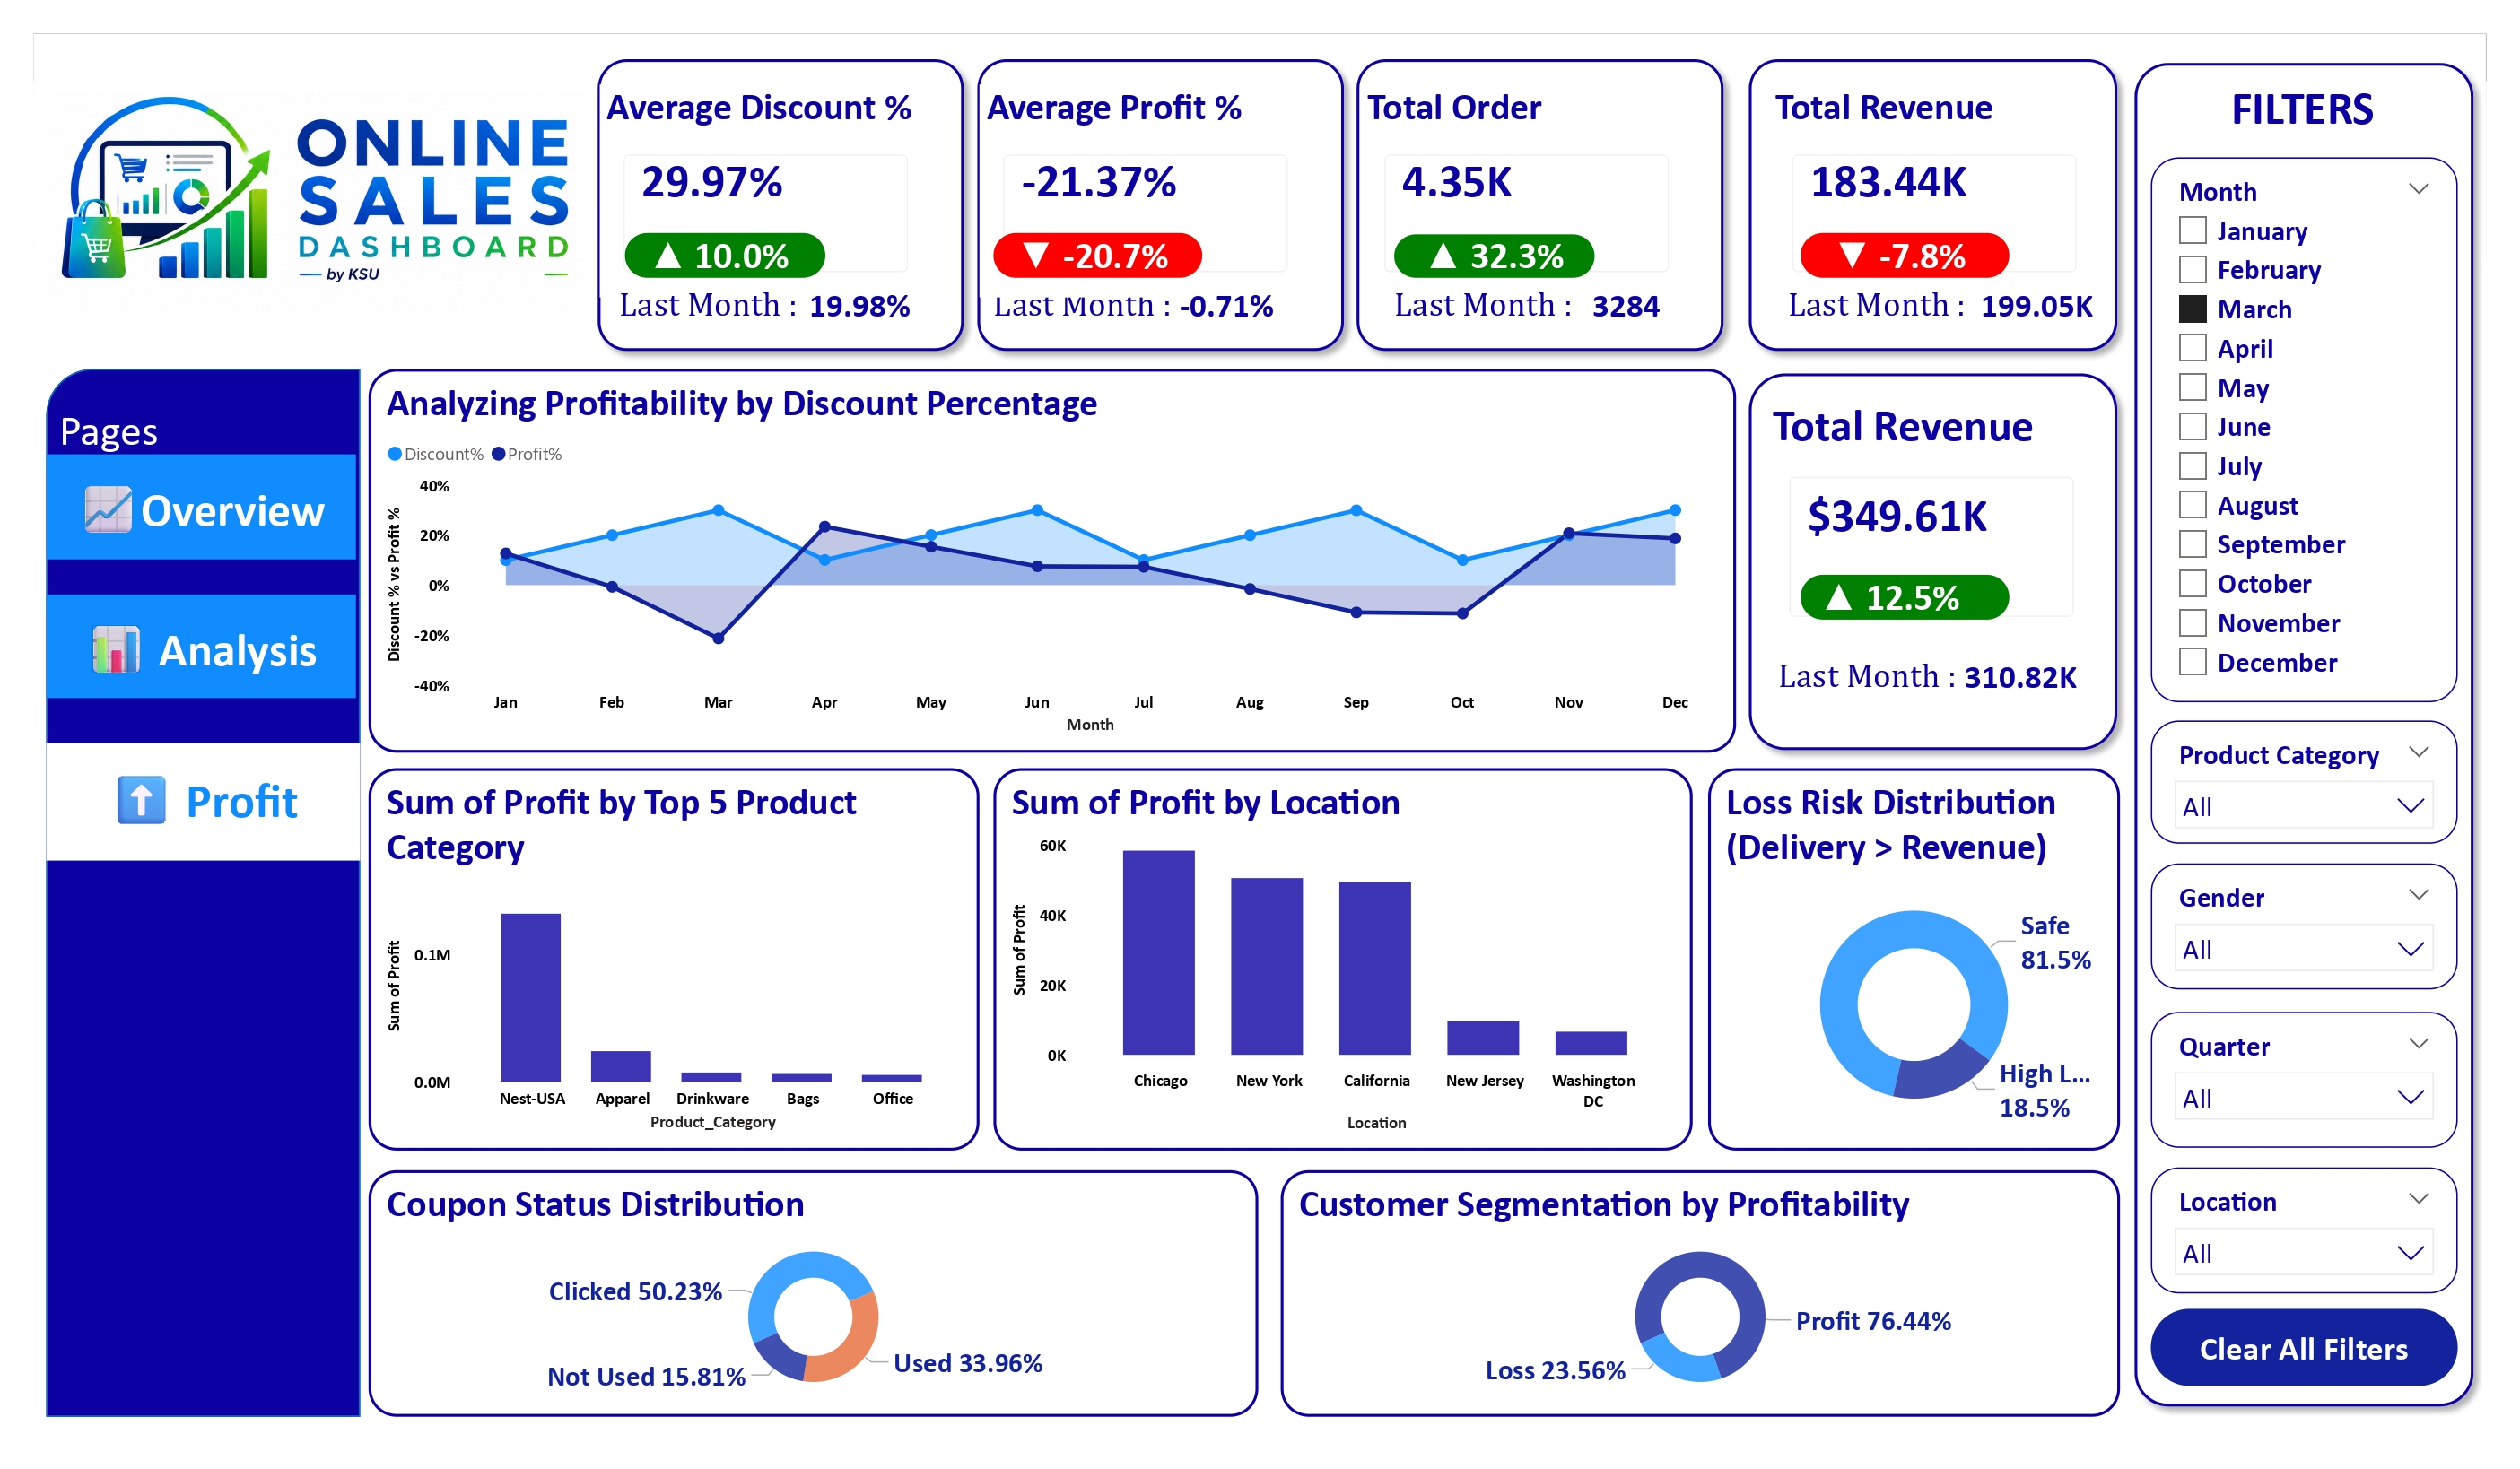

What the dashboard file says about the page in this screenshot:
{"tool":"powerbi","page":{"name":"Profit & Coupon Analysis","canvas":[1750,1060],"ordinal":2},"visuals":[{"type":"shape","box":[9.9,238.6,223.6,807.6],"z":0},{"type":"shape","box":[1491,12.4,258.4,1033.8],"z":1000},{"type":"shape","box":[684.5,142.3,142.3,31.6],"z":2000},{"type":"slicer","fields":{"Values":["Date_Table.Month"]},"box":[1513.4,104.4,218.7,390.1],"z":3000},{"type":"shape","box":[393.1,9,280.1,225.9],"z":4000},{"type":"shape","box":[664.2,9,280.1,225.9],"z":5000},{"type":"shape","box":[935.3,9,280.1,225.9],"z":6000},{"type":"cardVisual","title":"Average Discount %","fields":{"Data":["dax.Discount%"]},"box":[404.4,36.1,237.2,151.4],"z":7000},{"type":"shape","box":[422.4,142.3,142.3,31.6],"z":8000},{"type":"card","fields":{"Values":["dax.MoM%_Discount"]},"box":[417.9,137.8,142.3,40.7],"z":9000},{"type":"card","fields":{"Values":["dax.Previous_Month_Discount%"]},"box":[524.1,169.4,131,49.7],"z":10000},{"type":"cardVisual","title":"Average Profit %","fields":{"Data":["dax.Profit%"]},"box":[675.5,36.1,237.2,151.4],"z":11000},{"type":"shape","title":"Last Month : ","box":[417.9,178.5,144.6,31.6],"z":13000},{"type":"shape","box":[684.5,142.3,149.1,31.6],"z":14000},{"type":"card","fields":{"Values":["dax.MoM%_Profit"]},"box":[684.5,137.8,142.3,40.7],"z":15000},{"type":"cardVisual","title":"Total Order","fields":{"Data":["dax.Total_Orders"]},"box":[946.6,36.1,237.2,151.4],"z":16000},{"type":"card","fields":{"Values":["dax.Previous_Month_Order"]},"box":[1070.8,169.4,131,49.7],"z":17000},{"type":"shape","title":"Last Month : ","box":[971.4,178.5,144.6,31.6],"z":18000},{"type":"shape","box":[971.2,142.5,142.5,31.2],"z":19000},{"type":"card","fields":{"Values":["dax.MoM%_Order"]},"box":[971.4,137.8,142.3,40.7],"z":20000},{"type":"slicer","fields":{"Values":["Sales.Product_Category"]},"box":[1513.4,514.4,218.7,89.5],"z":21000},{"type":"slicer","fields":{"Values":["Date_Table.Quarter"]},"box":[1513.4,733.1,218.7,96.9],"z":22000},{"type":"slicer","fields":{"Values":["Sales.Gender"]},"box":[1513.4,626.2,218.7,89.5],"z":23000},{"type":"shape","title":"FILTERS","box":[1565.5,44.7,109.3,39.8],"z":24000},{"type":"image","box":[4.5,4.5,393.1,230.4],"z":26000},{"type":"actionButton","box":[9,506,223.6,83.6],"z":27000},{"type":"actionButton","box":[9,300.5,221.4,74.5],"z":28000},{"type":"shape","box":[1215.4,9,280.1,225.9],"z":29000},{"type":"cardVisual","title":"Total Profit","fields":{"Data":["dax.Total_Porfit"]},"box":[1238,36.1,237.2,151.4],"z":30000},{"type":"shape","box":[1260.6,142.3,149.1,31.6],"z":31000},{"type":"card","fields":{"Values":["dax.MoM_profit %"]},"box":[1260.6,137.8,142.3,40.7],"z":32000},{"type":"shape","title":"Last Month : ","box":[1251.5,178.5,144.6,31.6],"z":33000},{"type":"card","fields":{"Values":["dax.Previous_Month_Profit"]},"box":[1364.5,169.4,131,49.7],"z":34000},{"type":"slicer","fields":{"Values":["Sales.Location"]},"box":[1513.4,854.8,218.7,91.9],"z":35000},{"type":"shape","title":"Pages","box":[18.1,264.3,110.7,40.7],"z":36000},{"type":"actionButton","box":[9,399.9,221.4,74.5],"z":37000},{"type":"lineChart","title":"Analyzing Profitability by Discount Percentage","fields":{"Y":["dax.Discount%","dax.Profit%"],"Category":["Date_Table.Munthsort"]},"box":[239.5,239.5,975.9,273.3],"z":38000},{"type":"columnChart","title":"Sum of Profit by Top 5 Product Category","fields":{"Category":["Sales.Product_Category"],"Y":["Sum(Sales.Profit)"]},"box":[239.5,524.1,436,273.3],"z":39000},{"type":"columnChart","title":"Sum of Profit by Location","fields":{"Category":["Sales.Location"],"Y":["Sum(Sales.Profit)"]},"box":[684.5,524.1,499.3,273.3],"z":40000},{"type":"shape","box":[1215.4,232.7,280.1,286.9],"z":41000},{"type":"cardVisual","title":"Total Revenue","fields":{"Data":["dax.Current_Month_Sale"]},"box":[1235.7,259.8,237.2,173.9],"z":42000},{"type":"shape","box":[1260.6,386.3,149.1,31.6],"z":43000},{"type":"card","fields":{"Values":["dax.MoM %"]},"box":[1253.8,381.8,142.3,40.7],"z":44000},{"type":"shape","title":"Last Month : ","box":[1244.8,442.8,144.6,31.6],"z":45000},{"type":"card","fields":{"Values":["dax.Previous_month_sale"]},"box":[1353.2,433.7,131,49.7],"z":46000},{"type":"donutChart","title":"Customer Segmentation by Profitability","fields":{"Category":["Sales.Profit Status"],"Y":["CountNonNull(Sales.CustomerID)"]},"box":[889.6,810.1,598.9,236.1],"z":47000},{"type":"donutChart","title":"Coupon Status Distribution","fields":{"Category":["Sales.Coupon_Status"],"Y":["CountNonNull(Sales.Transaction_ID)"]},"box":[238.6,810.1,636.2,236.1],"z":48000},{"type":"donutChart","title":"Loss Risk Distribution (Delivery > Revenue)","fields":{"Category":["Sales.Loss Risk"],"Y":["CountNonNull(Sales.Transaction_ID)"]},"box":[1195.1,524.1,293.7,273.3],"z":49000},{"type":"shape","box":[1510.9,966.7,218.7,54.7],"z":50000},{"type":"shape","title":"Last Month : ","box":[684.5,178.5,144.6,31.6],"z":51000},{"type":"card","fields":{"Values":["dax.Previous_Month_Profit%"]},"box":[786.2,169.4,131,49.7],"z":51500}]}

Visuals, with their boxes in screenshot pixels (x1, y1, x2, y2):
shape: x1=86, y1=366, x2=391, y2=1468
shape: x1=2111, y1=56, x2=2464, y2=1468
shape: x1=1008, y1=234, x2=1203, y2=277
slicer - Date_Table.Month: x1=2142, y1=182, x2=2441, y2=716
shape: x1=610, y1=52, x2=993, y2=361
shape: x1=981, y1=52, x2=1364, y2=361
shape: x1=1351, y1=52, x2=1734, y2=361
"Average Discount %" cardVisual: x1=625, y1=89, x2=950, y2=296
shape: x1=650, y1=234, x2=844, y2=277
card - dax.MoM%_Discount: x1=644, y1=228, x2=838, y2=283
card - dax.Previous_Month_Discount%: x1=789, y1=271, x2=968, y2=339
"Average Profit %" cardVisual: x1=996, y1=89, x2=1321, y2=296
"Last Month : " shape: x1=644, y1=283, x2=841, y2=326
shape: x1=1008, y1=234, x2=1212, y2=277
card - dax.MoM%_Profit: x1=1008, y1=228, x2=1203, y2=283
"Total Order" cardVisual: x1=1367, y1=89, x2=1691, y2=296
card - dax.Previous_Month_Order: x1=1537, y1=271, x2=1716, y2=339
"Last Month : " shape: x1=1400, y1=283, x2=1599, y2=326
shape: x1=1400, y1=234, x2=1595, y2=277
card - dax.MoM%_Order: x1=1400, y1=228, x2=1595, y2=283
slicer - Sales.Product_Category: x1=2142, y1=743, x2=2441, y2=865
slicer - Date_Table.Quarter: x1=2142, y1=1041, x2=2441, y2=1174
slicer - Sales.Gender: x1=2142, y1=896, x2=2441, y2=1018
"FILTERS" shape: x1=2213, y1=100, x2=2363, y2=155
image: x1=78, y1=46, x2=616, y2=361
actionButton: x1=84, y1=731, x2=390, y2=846
actionButton: x1=84, y1=450, x2=388, y2=552
shape: x1=1734, y1=52, x2=2117, y2=361
"Total Profit" cardVisual: x1=1766, y1=89, x2=2089, y2=296
shape: x1=1796, y1=234, x2=2001, y2=277
card - dax.MoM_profit %: x1=1796, y1=228, x2=1991, y2=283
"Last Month : " shape: x1=1783, y1=283, x2=1982, y2=326
card - dax.Previous_Month_Profit: x1=1939, y1=271, x2=2117, y2=339
slicer - Sales.Location: x1=2142, y1=1208, x2=2441, y2=1334
"Pages" shape: x1=97, y1=401, x2=249, y2=456
actionButton: x1=84, y1=587, x2=388, y2=688
"Analyzing Profitability by Discount Percentage" lineChart: x1=400, y1=367, x2=1734, y2=741
"Sum of Profit by Top 5 Product Category" columnChart: x1=400, y1=756, x2=996, y2=1129
"Sum of Profit by Location" columnChart: x1=1008, y1=756, x2=1691, y2=1129
shape: x1=1734, y1=358, x2=2117, y2=750
"Total Revenue" cardVisual: x1=1762, y1=395, x2=2087, y2=632
shape: x1=1796, y1=568, x2=2001, y2=611
card - dax.MoM %: x1=1787, y1=561, x2=1982, y2=617
"Last Month : " shape: x1=1774, y1=645, x2=1973, y2=688
card - dax.Previous_month_sale: x1=1923, y1=632, x2=2102, y2=700
"Customer Segmentation by Profitability" donutChart: x1=1289, y1=1147, x2=2108, y2=1468
"Coupon Status Distribution" donutChart: x1=398, y1=1147, x2=1269, y2=1468
"Loss Risk Distribution (Delivery > Revenue)" donutChart: x1=1706, y1=756, x2=2108, y2=1129
shape: x1=2139, y1=1361, x2=2437, y2=1436
"Last Month : " shape: x1=1008, y1=283, x2=1206, y2=326
card - dax.Previous_Month_Profit%: x1=1147, y1=271, x2=1327, y2=339
